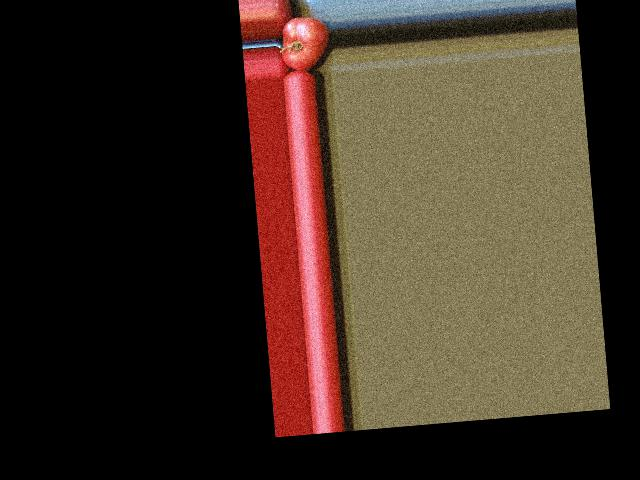tomato: (279, 15, 331, 71)
